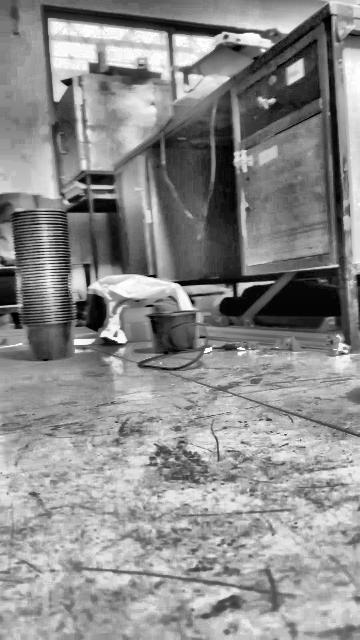pot: (20, 311, 75, 360), (147, 310, 198, 353)
